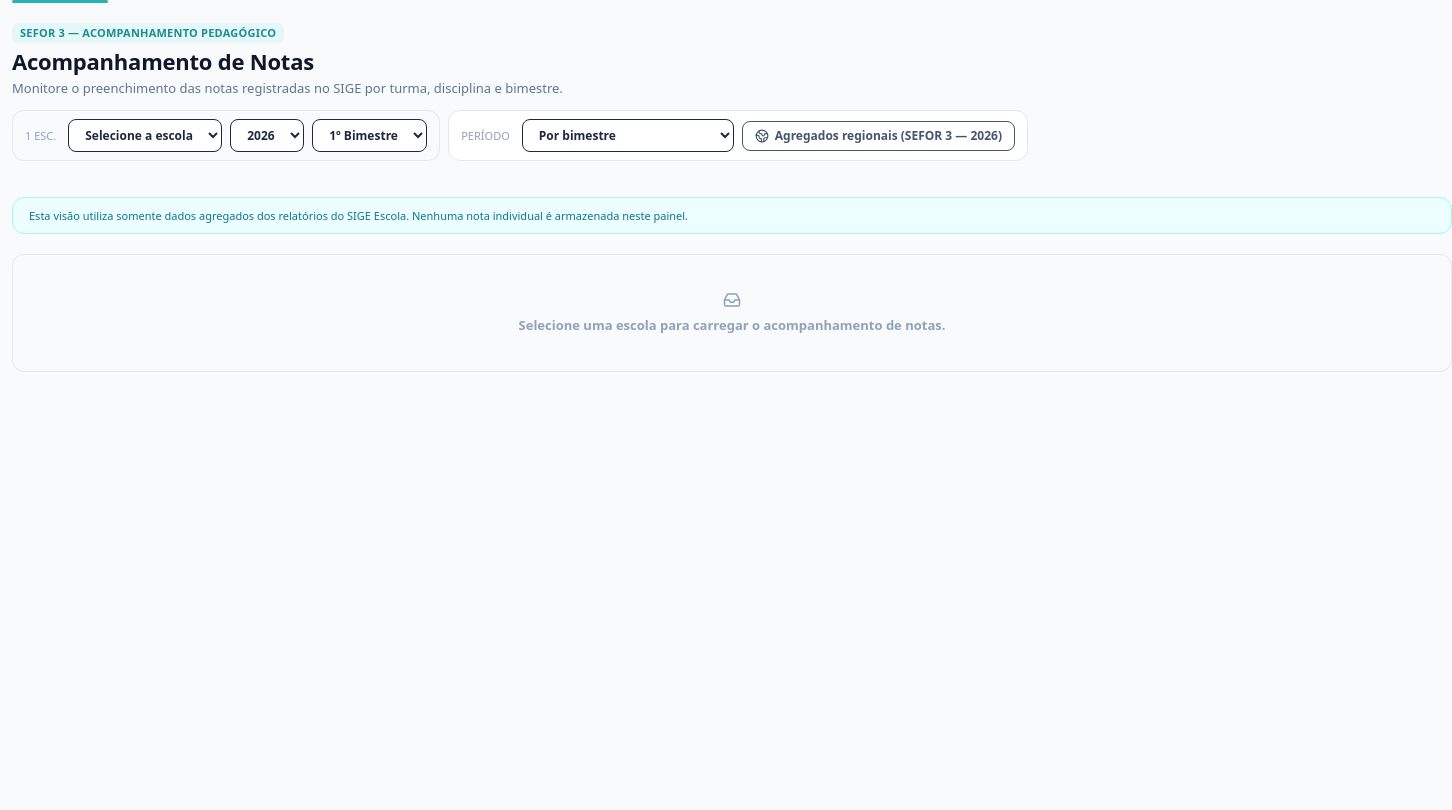
Test: NotasView › falha de leitura de grade_entry_monitoring (seção 1 do code review do PR #17) › falha nunca classifica turma como "Relatório não informado" nem mostra 0%, e desabilita o registro
Select "EEM Diva Cabral" in the dropdown named "Escola". click: (145, 136)
box: [68,119,222,152]
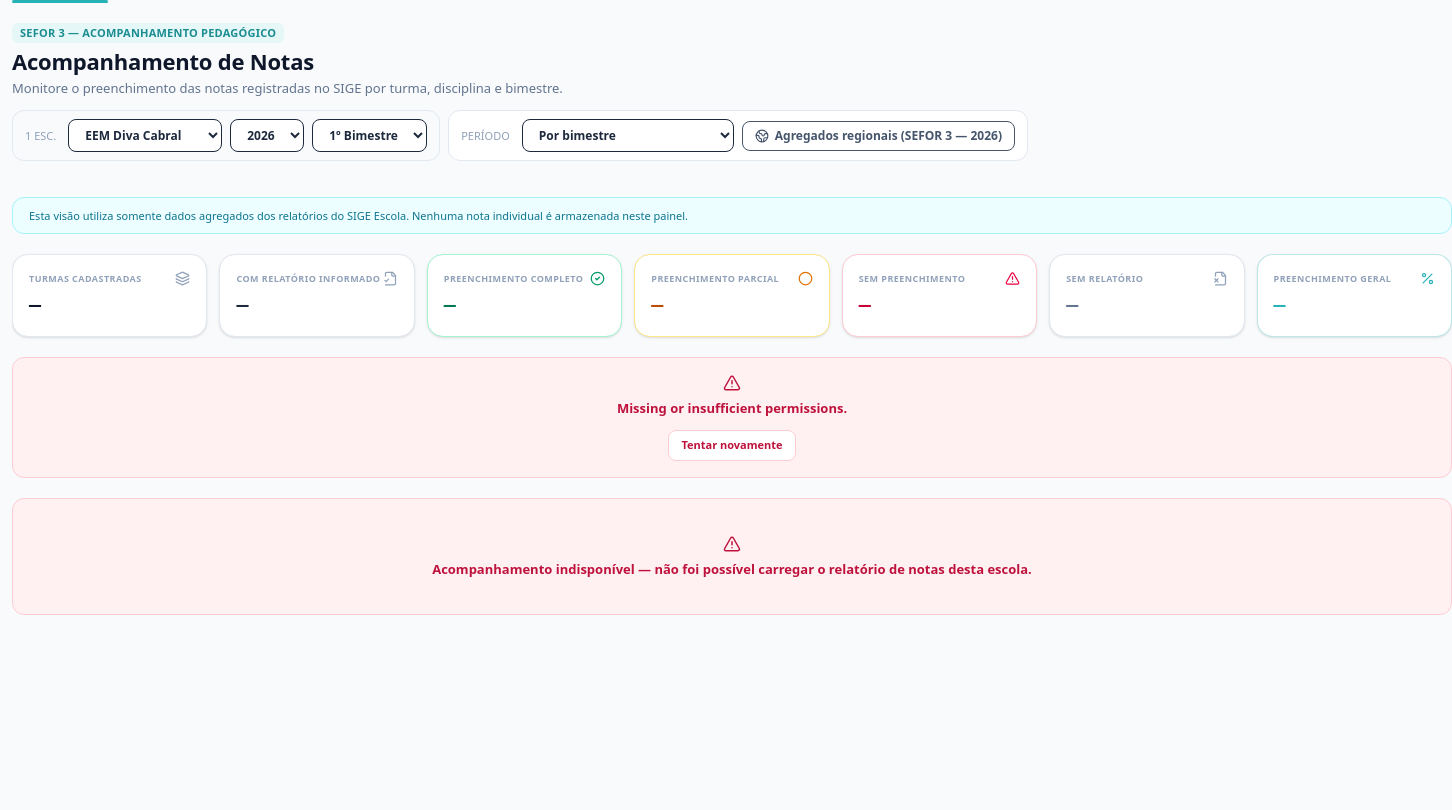
Expected: the text "Acompanhamento indisponível — não foi possível carregar o relatório de notas desta escola." is shown, [432,560,1032,578]
